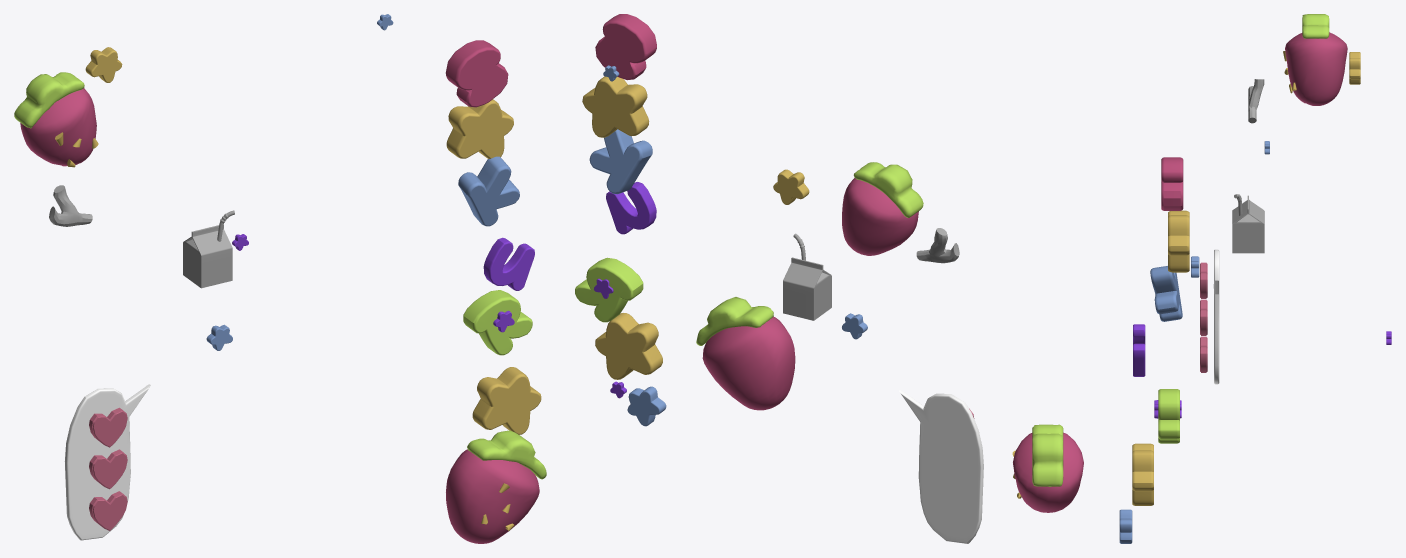
File: Assets.fbx
The picture shows the model from 3 angles, left to right: view 1: azimuth 30°, elevation 25°; view 2: azimuth 150°, elevation 25°; view 3: azimuth 270°, elevation 25°; orthographic projection. The views are drawn at different scales.
Parts seen in each view (by area): view 1: Letters, SpeechBubble, Strawberry1_Body, Strawberry_Body, Milk_Carton, Star, Leak; view 2: Letters, SpeechBubble, Strawberry1_Body, Strawberry_Body, Star, Milk_Carton, Leak; view 3: Letters, Strawberry1_Body, Strawberry_Body, Milk_Carton, SpeechBubble, Star, Leak.
Boxes of the visible parts, left/top/right/bottom form: Letters: left=445, top=40, right=541, bottom=434; SpeechBubble: left=64, top=384, right=150, bottom=540; Strawberry1_Body: left=446, top=430, right=546, bottom=543; Strawberry_Body: left=14, top=72, right=98, bottom=167; Milk_Carton: left=183, top=210, right=234, bottom=288; Star: left=85, top=14, right=393, bottom=350; Leak: left=49, top=185, right=92, bottom=226; Letters: left=575, top=14, right=662, bottom=379; SpeechBubble: left=899, top=389, right=983, bottom=543; Strawberry1_Body: left=696, top=297, right=795, bottom=410; Strawberry_Body: left=842, top=162, right=923, bottom=255; Star: left=603, top=65, right=867, bottom=426; Milk_Carton: left=783, top=233, right=831, bottom=320; Leak: left=916, top=228, right=959, bottom=263; Letters: left=1132, top=157, right=1189, bottom=505; Strawberry1_Body: left=1012, top=424, right=1083, bottom=512; Strawberry_Body: left=1283, top=14, right=1347, bottom=105; Milk_Carton: left=1232, top=194, right=1264, bottom=253; SpeechBubble: left=1200, top=249, right=1219, bottom=384; Star: left=1119, top=52, right=1391, bottom=543; Leak: left=1248, top=79, right=1264, bottom=123.
Bounding box in the file's own units: 13.78 × 13.05 × 11.72.
